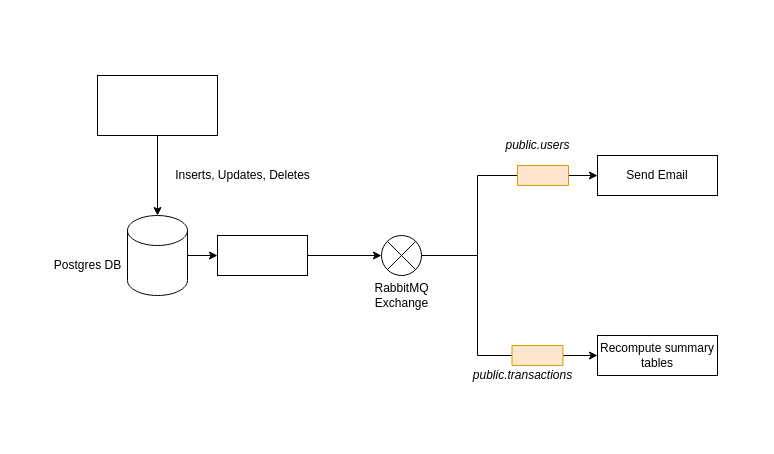
The diagram is 774 pixels wide and 454 high, and some of its shapes have lost their labels. The shapes that lost their labels are listed below. From the top down, each one's centre as x and y in pixels, then its label:
the point at 157,105: Application ORM
the point at 262,255: Producer
